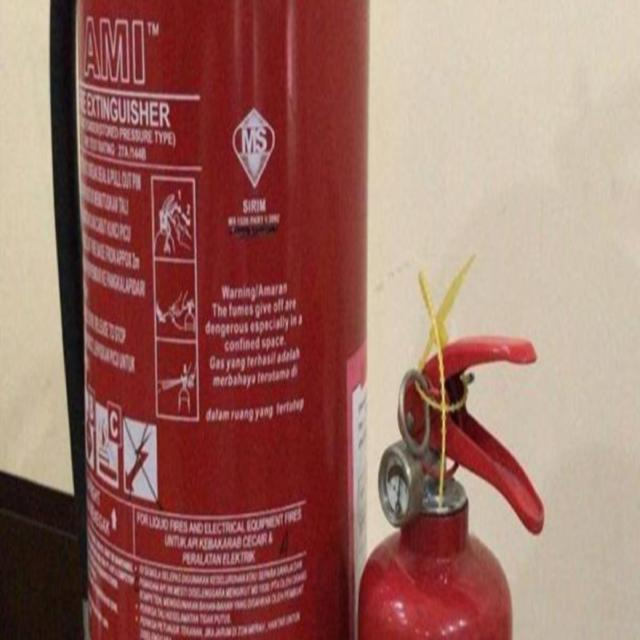fire_extinguisher: (45, 0, 373, 639), (350, 326, 549, 639)
